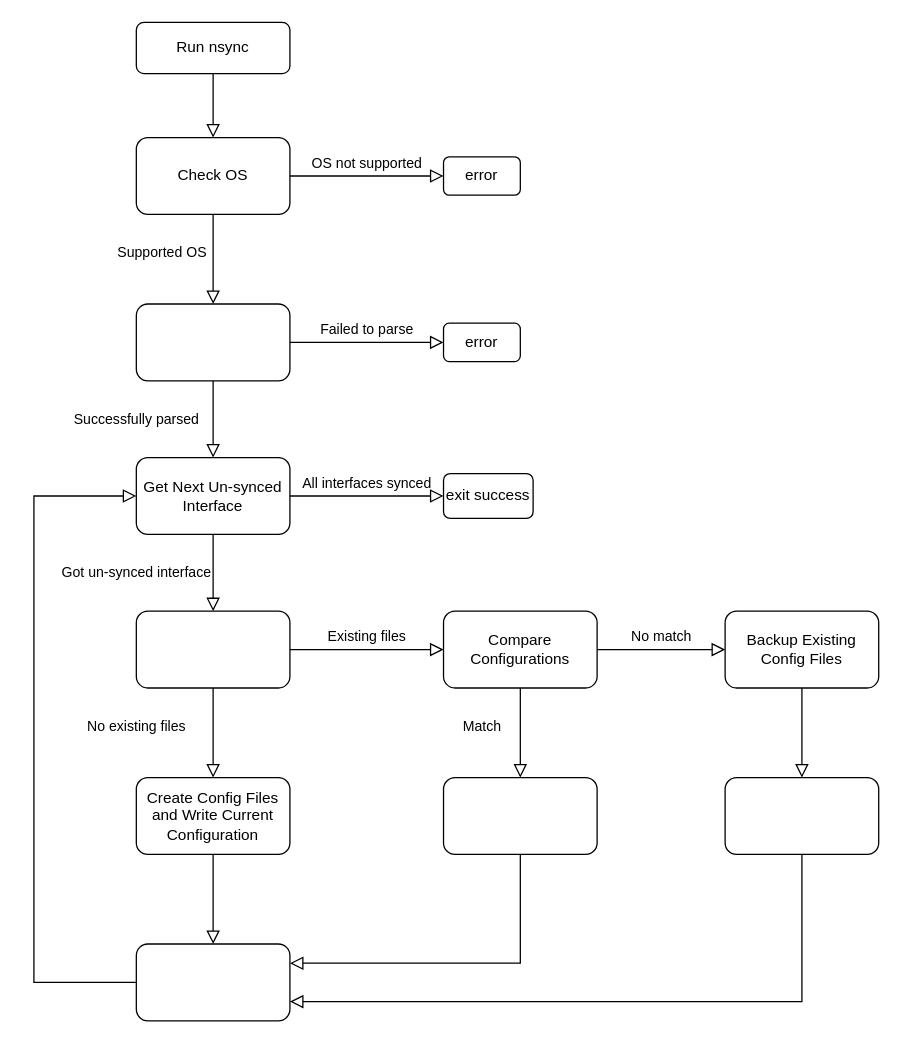
Image size: 901x1043. Some labels were removed from this diagram. The centre of each missing label's shape, as x and y in pixels:
Check for Existing Interface Configuration Files: point 212,649
Get Network Config: point 212,342
Interface Synced: point 212,982
Keep Existing Files: point 519,815
Overwrite Files with Current Config: point 801,815
